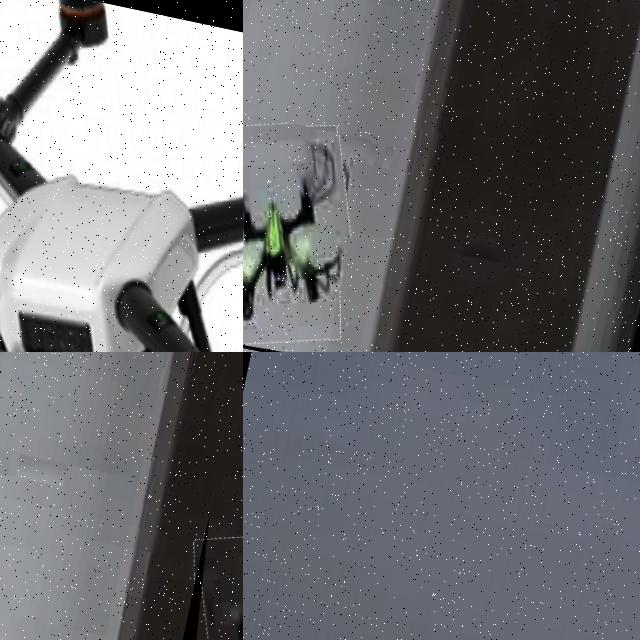0: (243, 102, 371, 352), (163, 516, 243, 640)
drone: (0, 0, 243, 352)
